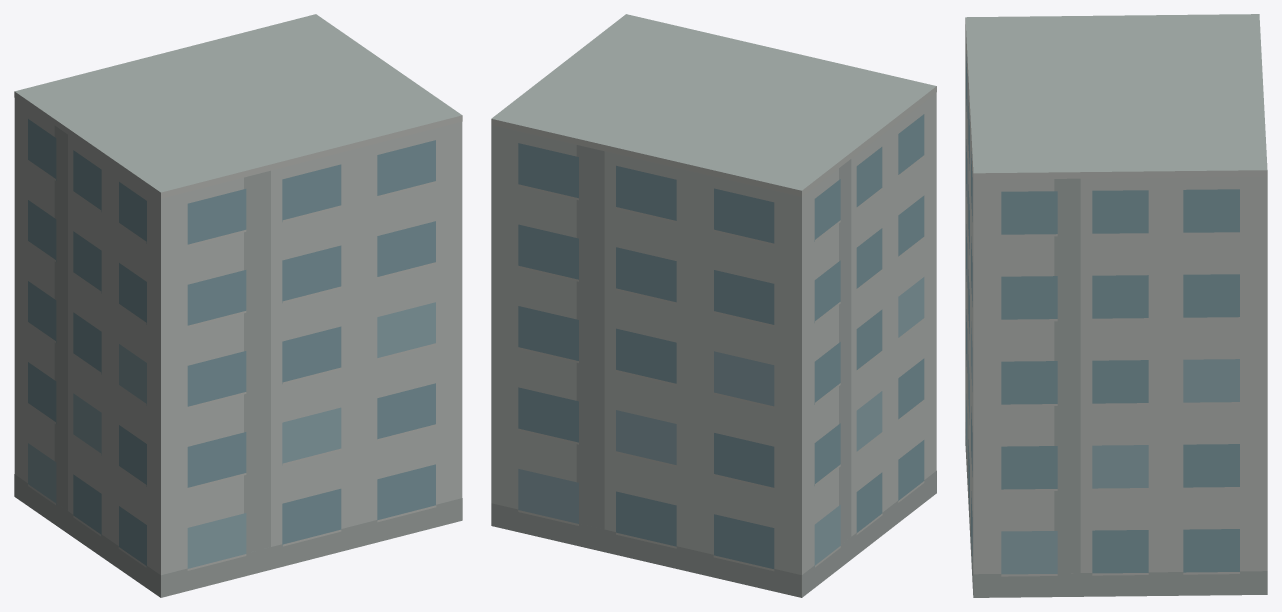
File: survey-upis-32962070.glb
The picture shows the model from 3 angles, left to right: view 1: azimuth 30°, elevation 25°; view 2: azimuth 150°, elevation 25°; view 3: azimuth 270°, elevation 25°; orthographic projection. The views are drawn at different scales.
Parts seen in each view (by area): view 1: survey-upis-32962070.tmp; view 2: survey-upis-32962070.tmp; view 3: survey-upis-32962070.tmp.
Part boxes in pixels (x1=…): survey-upis-32962070.tmp: x1=14, y1=14, x2=462, y2=597; survey-upis-32962070.tmp: x1=491, y1=14, x2=936, y2=597; survey-upis-32962070.tmp: x1=965, y1=14, x2=1267, y2=597.
Bounding box in the file's own units: 12.72 × 15.8 × 10.2.
